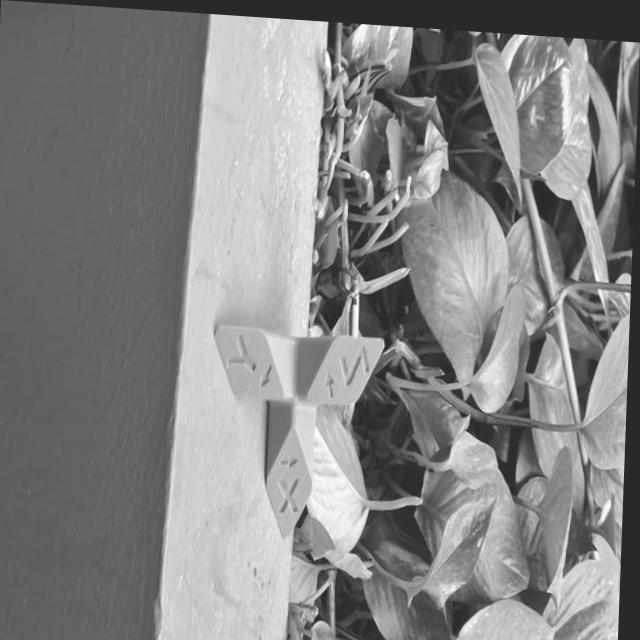eje: (204, 321, 385, 550)
